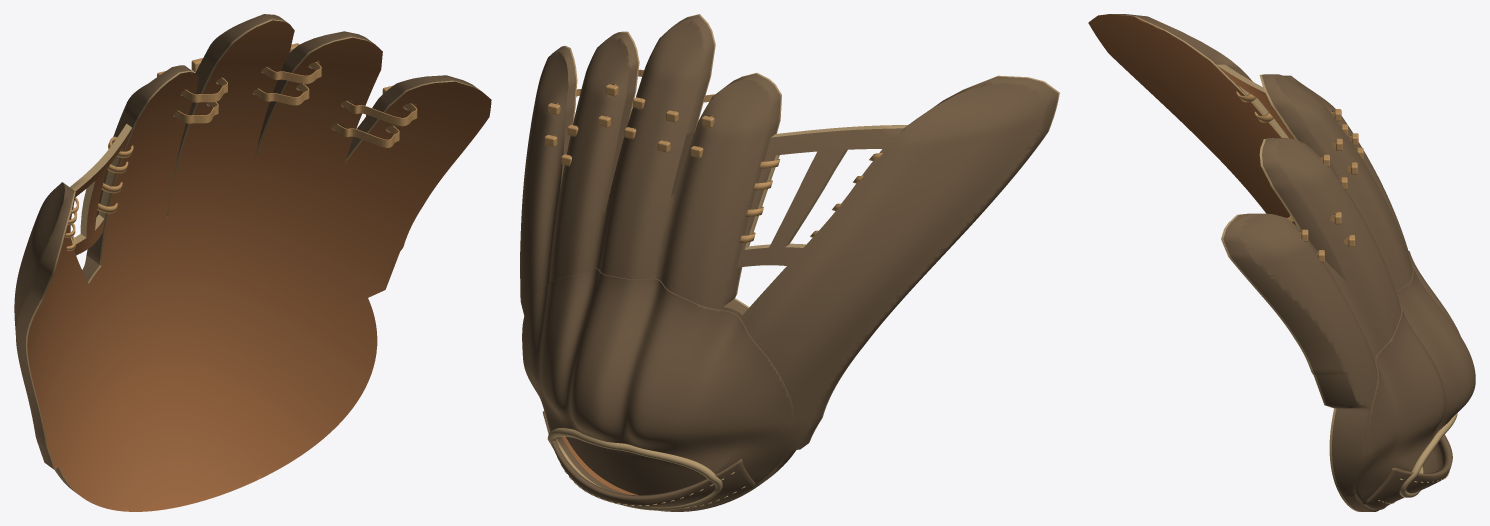
3 views of the same model, side by side, from view 1: azimuth 30°, elevation 25°; view 2: azimuth 150°, elevation 25°; view 3: azimuth 270°, elevation 25° (orthographic). The views are drawn at different scales.
Visible parts, largest first — view 1: Continuous leather palm thumb and four finger panel, Complete open two-window I web, Complete flat finger crosslace 2 1, Complete flat finger crosslace 2 0, Complete flat finger crosslace 1 1, Complete flat finger crosslace 1 0; view 2: Continuous leather palm thumb and four finger panel, Complete hollow back hood, Complete open two-window I web, Complete curved cuff band, Complete bound oval wrist opening; view 3: Continuous leather palm thumb and four finger panel, Complete hollow back hood, Complete curved cuff band, Complete open two-window I web, Complete bound oval wrist opening.
Boxes of the visible parts, <box> form: Continuous leather palm thumb and four finger panel: <box>14,14,491,511</box>; Complete open two-window I web: <box>70,123,131,255</box>; Complete flat finger crosslace 2 1: <box>341,101,417,126</box>; Complete flat finger crosslace 2 0: <box>331,123,399,147</box>; Complete flat finger crosslace 1 1: <box>261,62,321,83</box>; Complete flat finger crosslace 1 0: <box>252,83,309,105</box>; Continuous leather palm thumb and four finger panel: <box>520,14,1059,511</box>; Complete hollow back hood: <box>522,268,794,495</box>; Complete open two-window I web: <box>737,124,908,267</box>; Complete curved cuff band: <box>542,410,757,511</box>; Complete bound oval wrist opening: <box>547,428,722,510</box>; Continuous leather palm thumb and four finger panel: <box>1088,14,1412,511</box>; Complete hollow back hood: <box>1355,251,1475,502</box>; Complete curved cuff band: <box>1362,434,1452,509</box>; Complete open two-window I web: <box>1216,64,1294,139</box>; Complete bound oval wrist opening: <box>1399,412,1457,497</box>.
Bounding box in the file's own units: 0.2079 × 0.202 × 0.1664.
